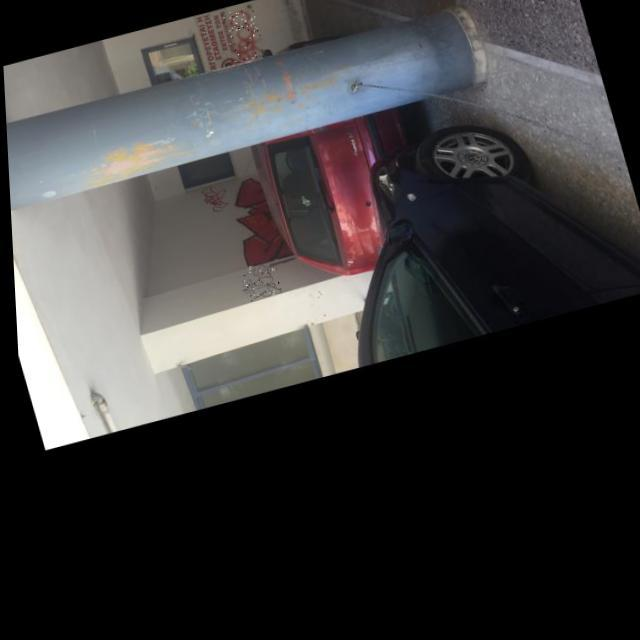-: (220, 8, 266, 68), (233, 261, 280, 304), (197, 181, 230, 216)
